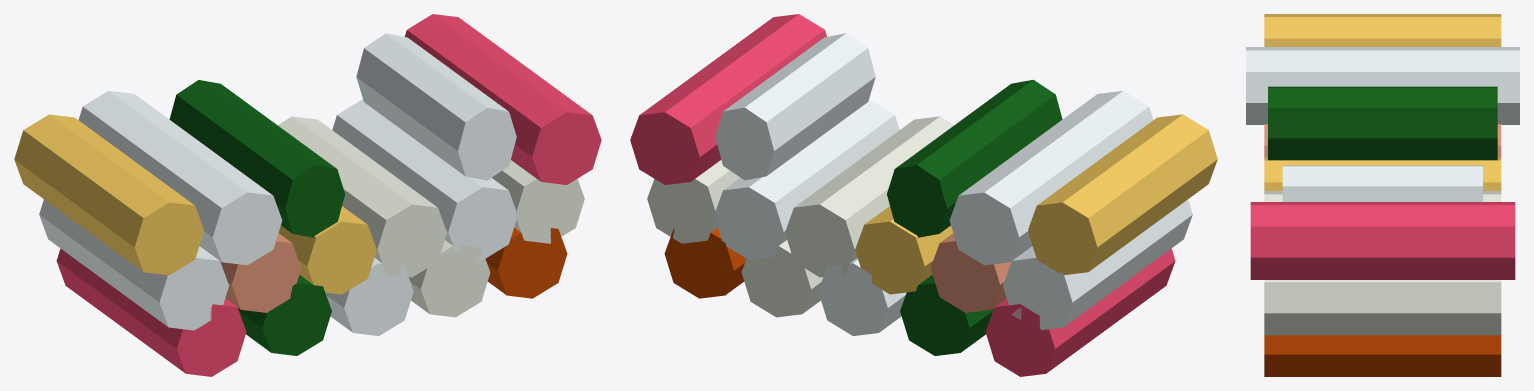
Rendered from Laundry_towels3.fbx.
The picture shows the model from 3 angles, left to right: view 1: azimuth 30°, elevation 25°; view 2: azimuth 150°, elevation 25°; view 3: azimuth 270°, elevation 25°; orthographic projection.
Visible parts, largest first — view 1: Laundry_towels3; view 2: Laundry_towels3; view 3: Laundry_towels3.
Part boxes in pixels (left/top/right/bottom): Laundry_towels3: left=14, top=14, right=601, bottom=376; Laundry_towels3: left=630, top=14, right=1217, bottom=376; Laundry_towels3: left=1246, top=14, right=1519, bottom=376.
Size of the model in its own units: 72.05 by 37.68 by 28.86.
